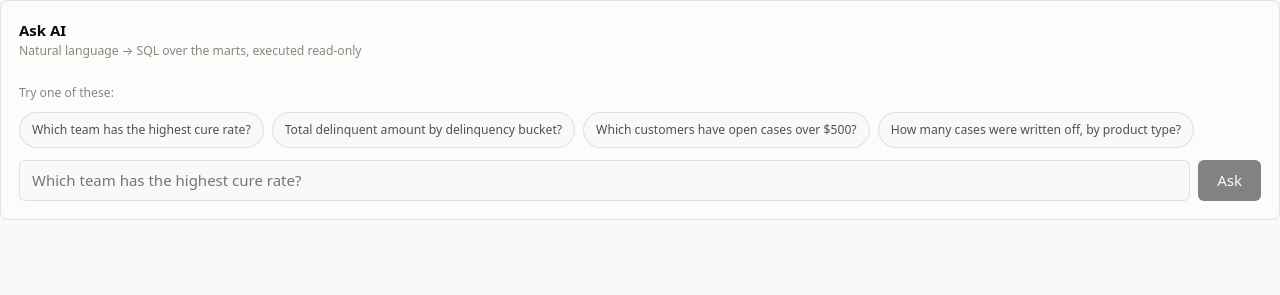
it: ChatPage › renders a rate-limit 429 as a wait-a-moment note
The width and height of the screenshot is (1280, 295).
Step 1. Click the button "Which team has the highest cure rate?" → {"x": 141, "y": 130}, box [19,112,264,148]
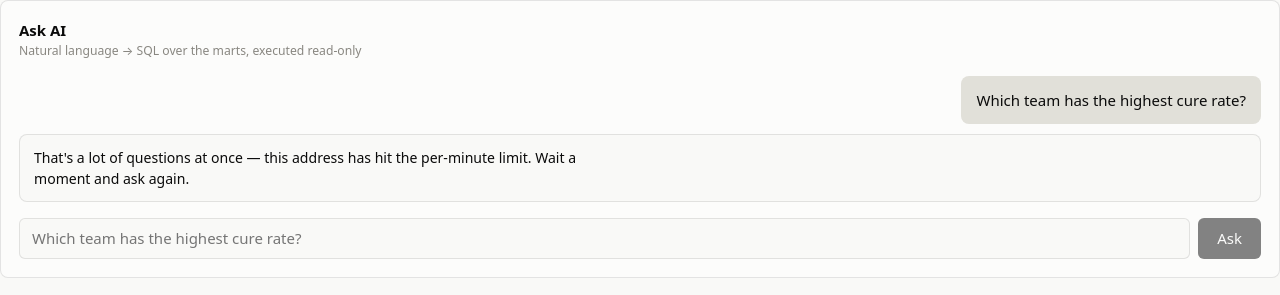
expect the text "per-minute limit" is shown: met, box [34,148,576,188]
